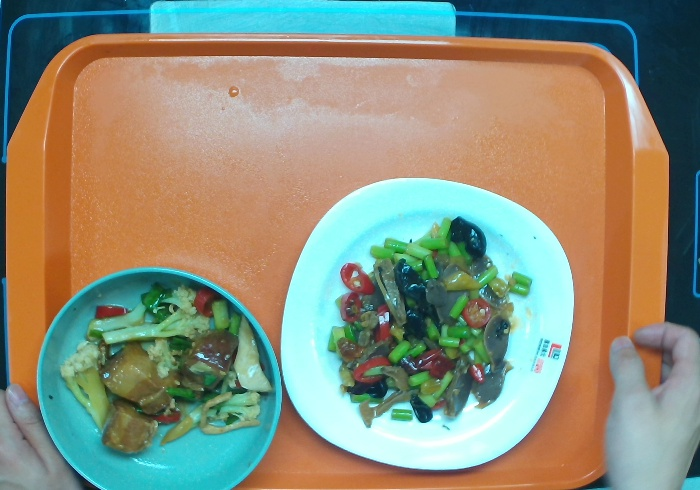ZNLD-Qing_Hua_Yuan_Wan: (26, 259, 294, 490)
ZNLD-Yuan_Jiao_Pan: (272, 164, 592, 480)
